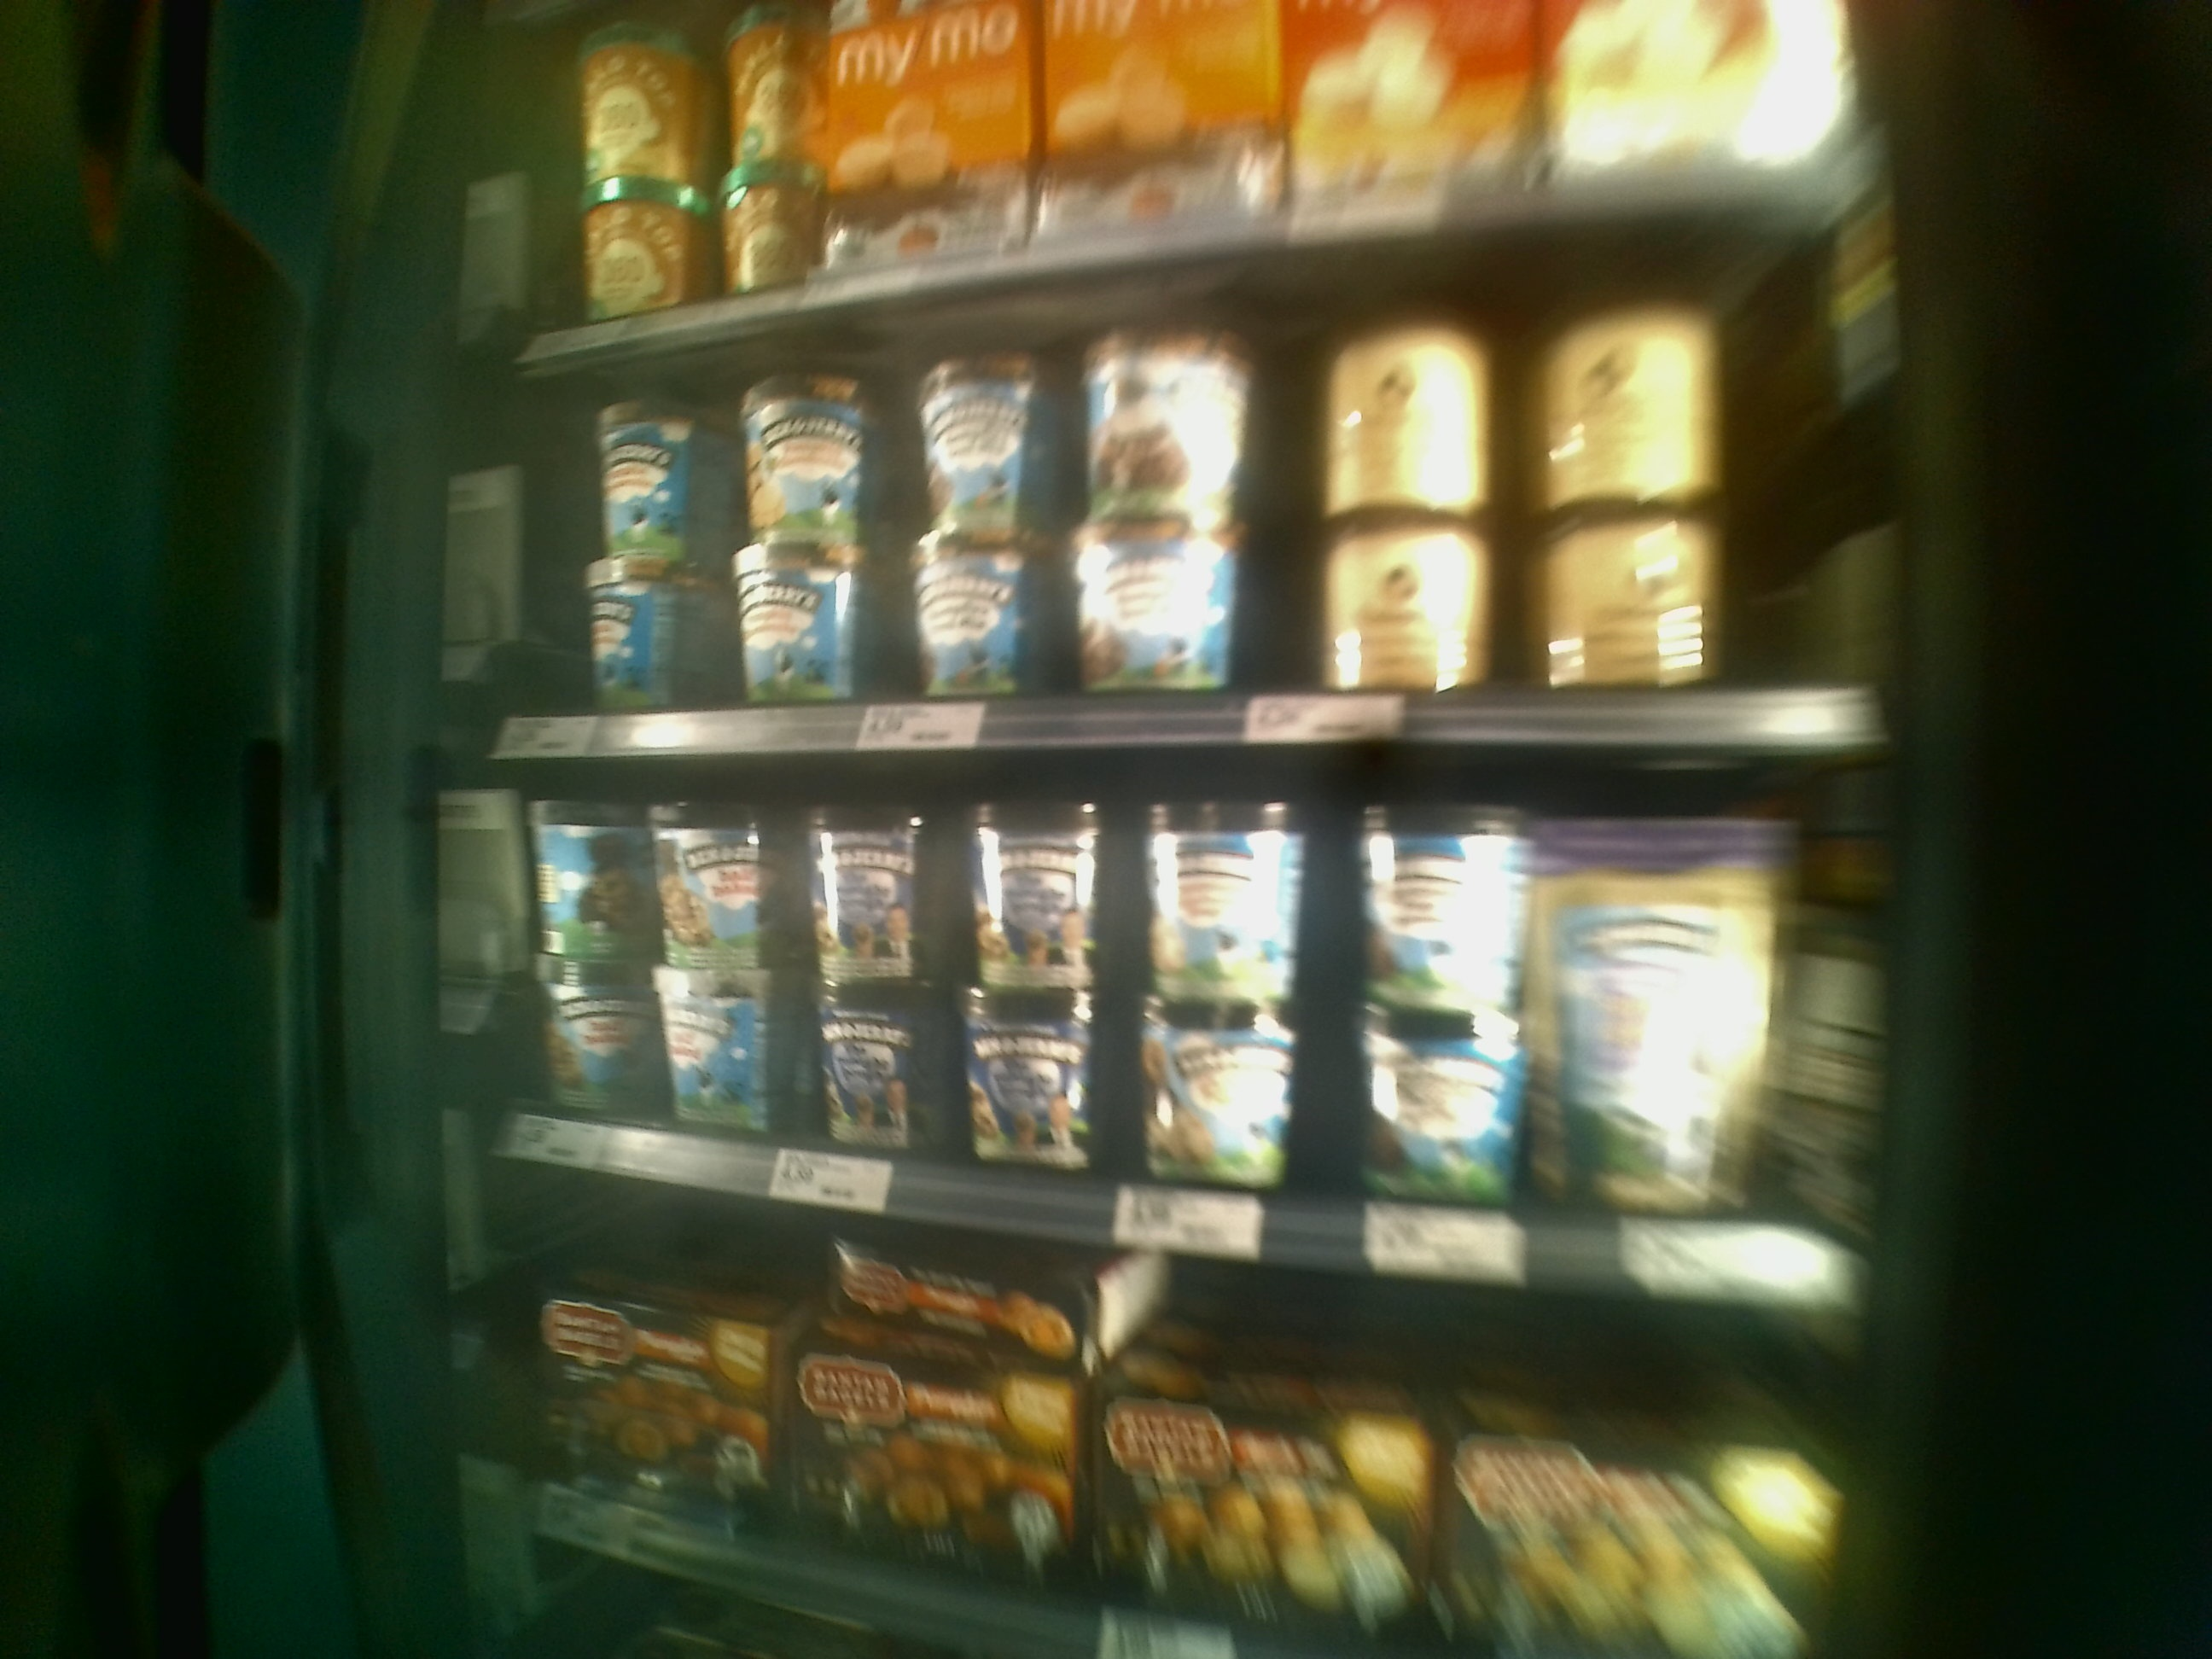shelf: (451, 742, 1872, 1337), (472, 308, 1886, 770)
